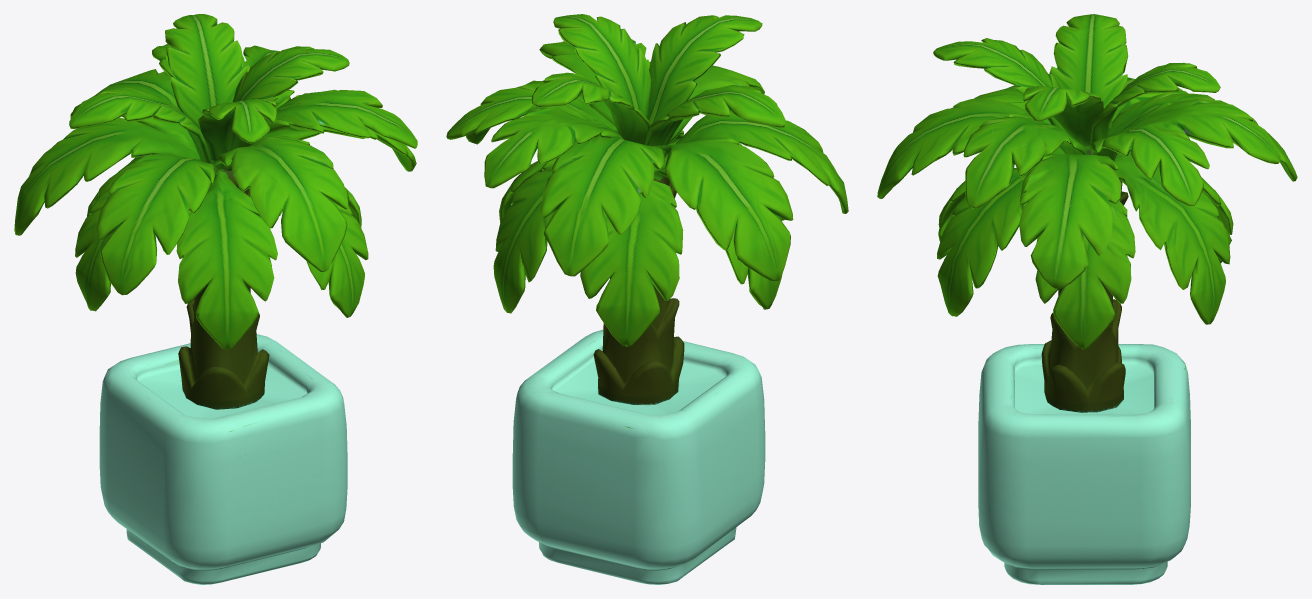
The model's file is potted-palm.glb.
3 views of the same model, side by side, from view 1: azimuth 30°, elevation 25°; view 2: azimuth 150°, elevation 25°; view 3: azimuth 270°, elevation 25° (orthographic).
Bounding box in the file's own units: 0.7153 × 0.9517 × 0.7319.
Materials: 1 (1 with a texture image).
